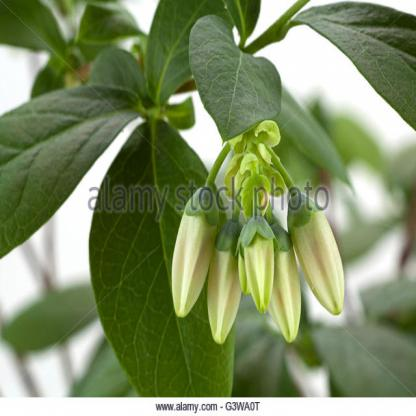blueberry leaf: (88, 108, 237, 397), (1, 81, 142, 257), (186, 7, 286, 146)
